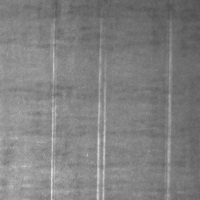scratches: (94, 32, 110, 199), (163, 20, 176, 197), (48, 23, 60, 199)
